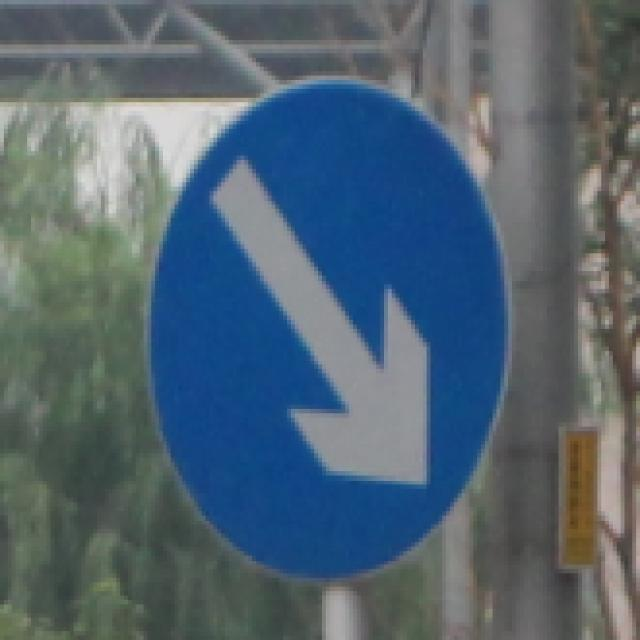Right: (146, 70, 500, 588)
